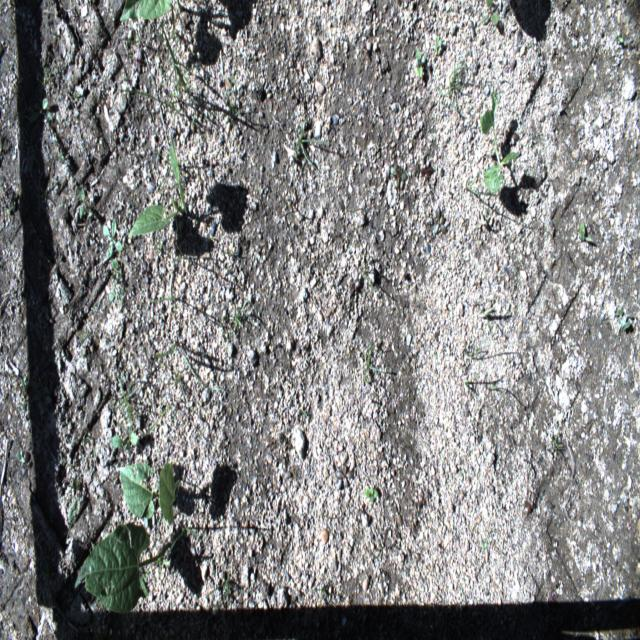crop: (74, 521, 174, 611), (130, 136, 188, 238), (119, 464, 183, 526), (118, 0, 172, 21)
weed: (116, 7, 200, 125), (150, 339, 226, 394), (99, 402, 187, 448), (480, 92, 518, 192), (291, 130, 329, 207), (439, 59, 469, 119), (225, 303, 256, 357), (361, 342, 391, 397), (64, 470, 85, 546), (0, 162, 23, 230), (472, 301, 509, 343), (150, 225, 186, 267), (112, 385, 142, 429), (32, 169, 60, 214), (222, 70, 244, 127), (458, 336, 489, 375), (169, 372, 196, 415), (216, 569, 234, 616), (103, 218, 122, 258), (178, 520, 204, 547), (486, 375, 510, 404), (120, 26, 141, 59), (359, 264, 378, 299), (387, 161, 408, 190), (111, 431, 140, 451), (31, 95, 53, 121), (225, 225, 240, 263), (479, 0, 500, 27), (616, 307, 634, 338), (464, 170, 482, 201), (19, 370, 31, 412), (578, 220, 597, 246), (79, 432, 96, 460), (432, 206, 446, 238), (462, 376, 481, 398), (414, 48, 426, 82), (148, 293, 180, 304), (107, 286, 127, 302), (13, 448, 30, 466), (364, 484, 379, 504), (74, 325, 88, 345), (76, 191, 86, 218), (42, 62, 53, 85), (433, 32, 443, 57), (550, 434, 562, 454), (113, 257, 123, 277), (480, 535, 489, 554), (56, 149, 66, 165), (615, 33, 625, 46)
